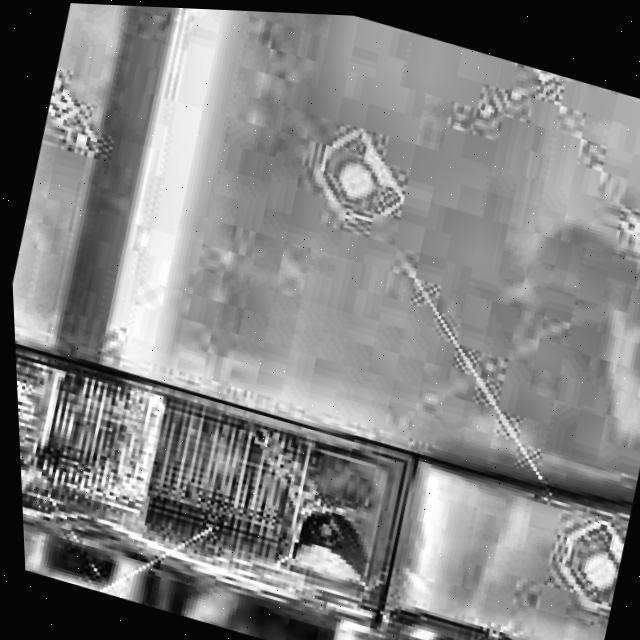tail_lamp: (227, 453, 396, 606)
